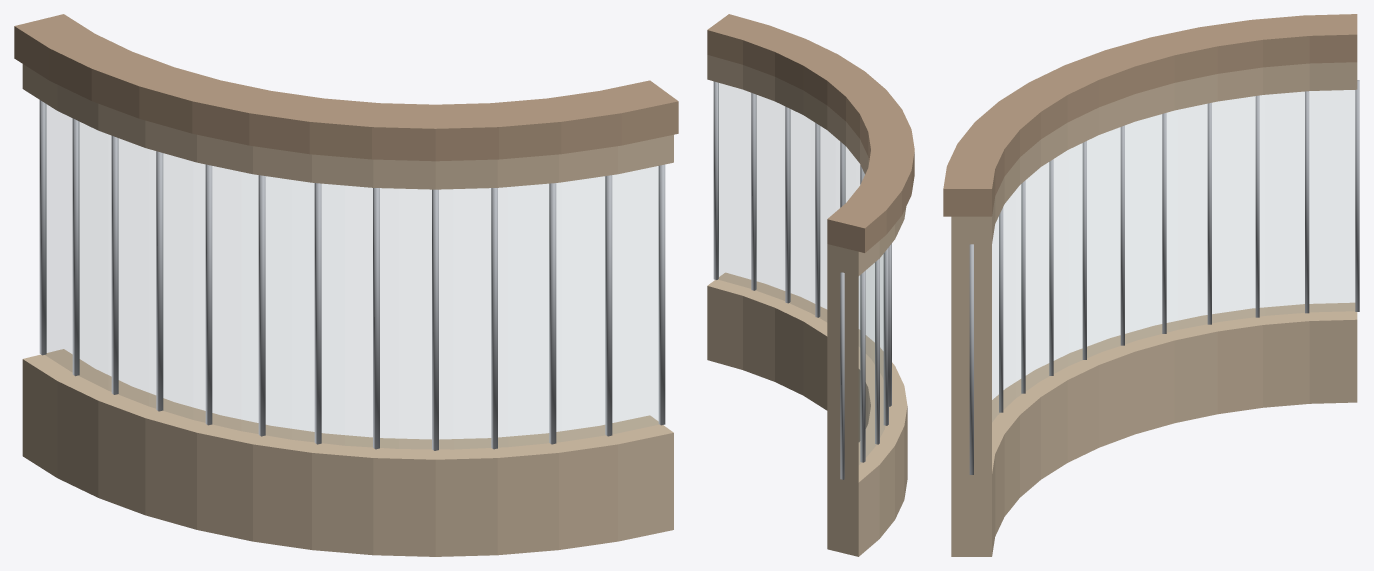
Rendered from city_office_corner_round.glb.
3 views of the same model, side by side, from view 1: azimuth 30°, elevation 25°; view 2: azimuth 150°, elevation 25°; view 3: azimuth 270°, elevation 25° (orthographic). The views are drawn at different scales.
Visible parts, largest first — view 1: CityOfficeCornerRound_WallGlass0, CityOfficeCornerRound_Wall, CityOfficeCornerRound_Band, CityOfficeCornerRound_WallMullion0_10, CityOfficeCornerRound_WallMullion0_6, CityOfficeCornerRound_WallMullion0_11, CityOfficeCornerRound_WallMullion0_5, CityOfficeCornerRound_WallMullion0_4, CityOfficeCornerRound_WallMullion0_12, CityOfficeCornerRound_WallMullion0_3, CityOfficeCornerRound_WallMullion0_2, CityOfficeCornerRound_WallMullion0_1 (+4 smaller); view 2: CityOfficeCornerRound_Wall, CityOfficeCornerRound_WallGlass0, CityOfficeCornerRound_Band, CityOfficeCornerRound_WallMullion0_12, CityOfficeCornerRound_WallMullion0_11, CityOfficeCornerRound_WallMullion0_10, CityOfficeCornerRound_WallMullion0_9, CityOfficeCornerRound_WallMullion0_1, CityOfficeCornerRound_WallMullion0_3, CityOfficeCornerRound_WallMullion0_0, CityOfficeCornerRound_WallMullion0_2, CityOfficeCornerRound_WallMullion0_4 (+1 smaller); view 3: CityOfficeCornerRound_WallGlass0, CityOfficeCornerRound_Wall, CityOfficeCornerRound_Band, CityOfficeCornerRound_WallMullion0_12, CityOfficeCornerRound_WallMullion0_0, CityOfficeCornerRound_WallMullion0_1, CityOfficeCornerRound_WallMullion0_2, CityOfficeCornerRound_WallMullion0_3, CityOfficeCornerRound_WallMullion0_4, CityOfficeCornerRound_WallMullion0_5, CityOfficeCornerRound_WallMullion0_6, CityOfficeCornerRound_WallMullion0_7 (+2 smaller).
Part boxes in pixels (x1,y1,x2,y2): CityOfficeCornerRound_WallGlass0: (45,104,658,448); CityOfficeCornerRound_Wall: (22,64,673,556); CityOfficeCornerRound_Band: (14,14,678,161); CityOfficeCornerRound_WallMullion0_10: (549,183,556,444); CityOfficeCornerRound_WallMullion0_6: (314,183,321,444); CityOfficeCornerRound_WallMullion0_11: (605,175,612,436); CityOfficeCornerRound_WallMullion0_5: (258,175,265,436); CityOfficeCornerRound_WallMullion0_4: (205,164,212,425); CityOfficeCornerRound_WallMullion0_12: (658,164,665,425); CityOfficeCornerRound_WallMullion0_3: (156,151,163,411); CityOfficeCornerRound_WallMullion0_2: (111,136,118,394); CityOfficeCornerRound_WallMullion0_1: (72,118,79,376); CityOfficeCornerRound_Wall: (707,55,907,556); CityOfficeCornerRound_WallGlass0: (718,83,884,464); CityOfficeCornerRound_Band: (707,14,914,252); CityOfficeCornerRound_WallMullion0_12: (713,81,718,279); CityOfficeCornerRound_WallMullion0_11: (751,93,756,290); CityOfficeCornerRound_WallMullion0_10: (785,106,790,303); CityOfficeCornerRound_WallMullion0_9: (815,123,820,317); CityOfficeCornerRound_WallMullion0_1: (860,271,865,462); CityOfficeCornerRound_WallMullion0_3: (883,247,888,425); CityOfficeCornerRound_WallMullion0_0: (840,272,844,479); CityOfficeCornerRound_WallMullion0_2: (875,258,879,444); CityOfficeCornerRound_WallMullion0_4: (889,243,891,406); CityOfficeCornerRound_WallGlass0: (992,90,1354,421); CityOfficeCornerRound_Wall: (951,62,1357,556); CityOfficeCornerRound_Band: (943,14,1357,216); CityOfficeCornerRound_WallMullion0_12: (969,244,973,474); CityOfficeCornerRound_WallMullion0_0: (1355,80,1359,311); CityOfficeCornerRound_WallMullion0_1: (1305,91,1309,313); CityOfficeCornerRound_WallMullion0_2: (1255,95,1259,317); CityOfficeCornerRound_WallMullion0_3: (1207,102,1211,324); CityOfficeCornerRound_WallMullion0_4: (1162,113,1166,333); CityOfficeCornerRound_WallMullion0_5: (1120,125,1124,345); CityOfficeCornerRound_WallMullion0_6: (1082,141,1086,359); CityOfficeCornerRound_WallMullion0_7: (1049,159,1053,375).
Bounding box in the file's own units: 4.1 × 4 × 4.1.
